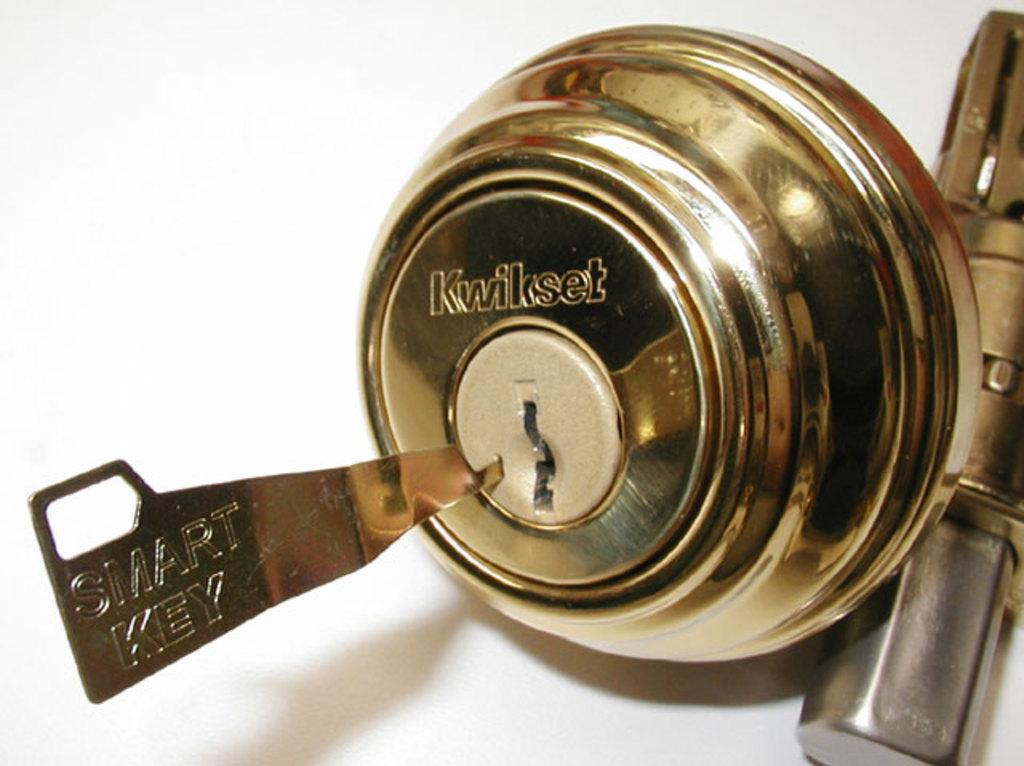handle: (263, 58, 1000, 648)
